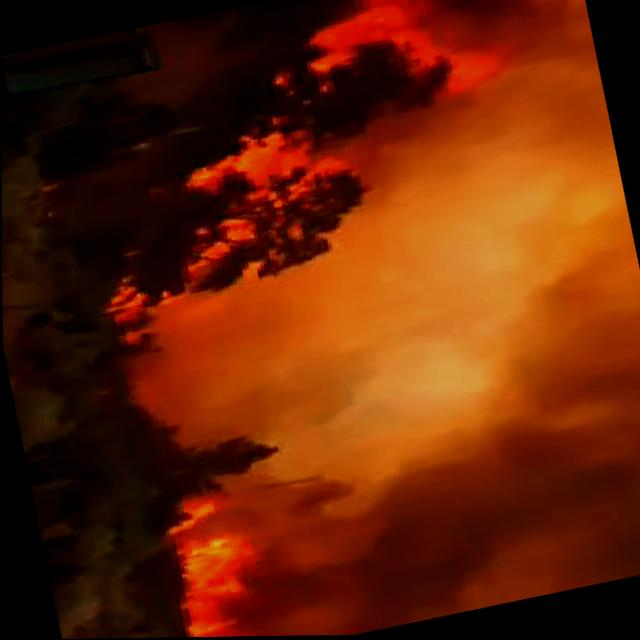fire: (233, 0, 560, 162), (108, 479, 337, 639), (173, 110, 351, 218)
smoke: (278, 121, 626, 491)
